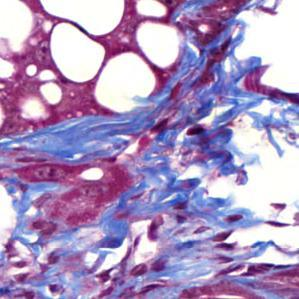steatosis: (45, 22, 105, 84), (133, 18, 187, 69)
